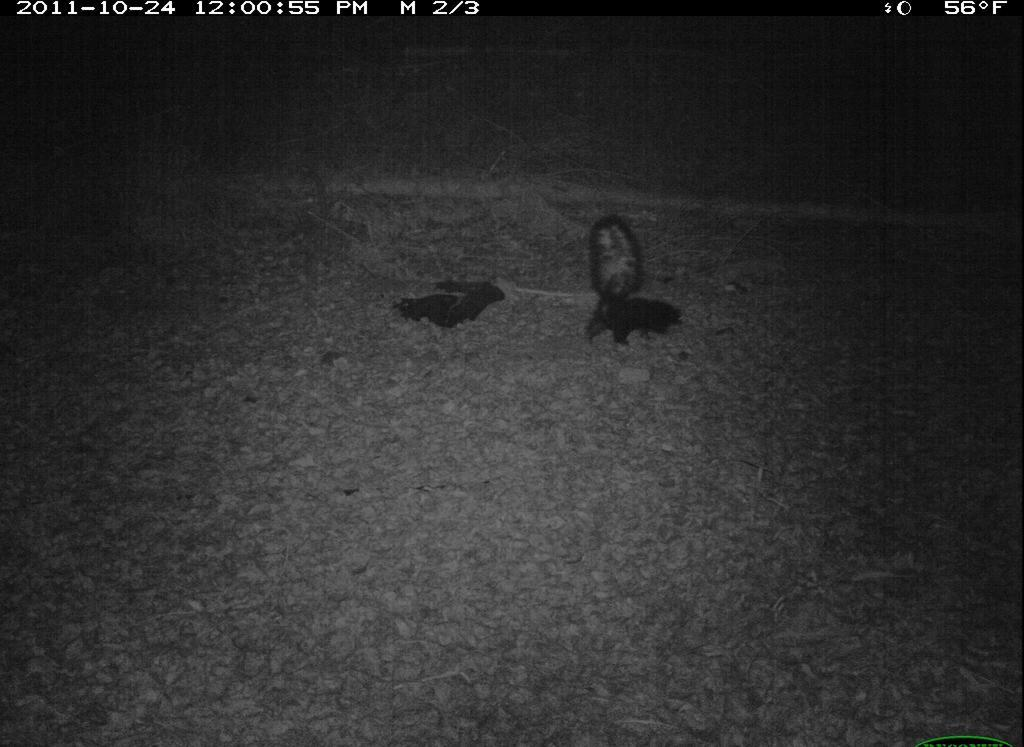skunk: (575, 213, 689, 353)
